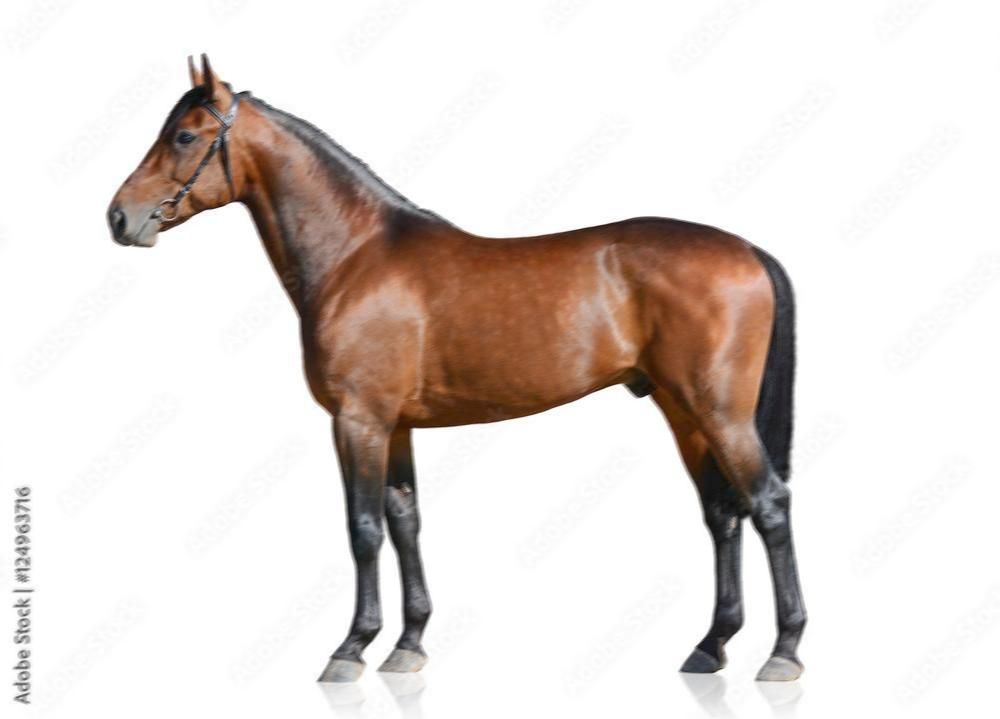horse: (100, 47, 817, 694)
